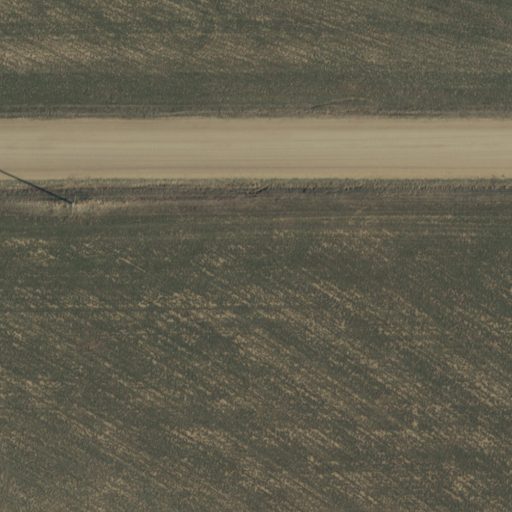DT: (60, 189, 84, 220)
